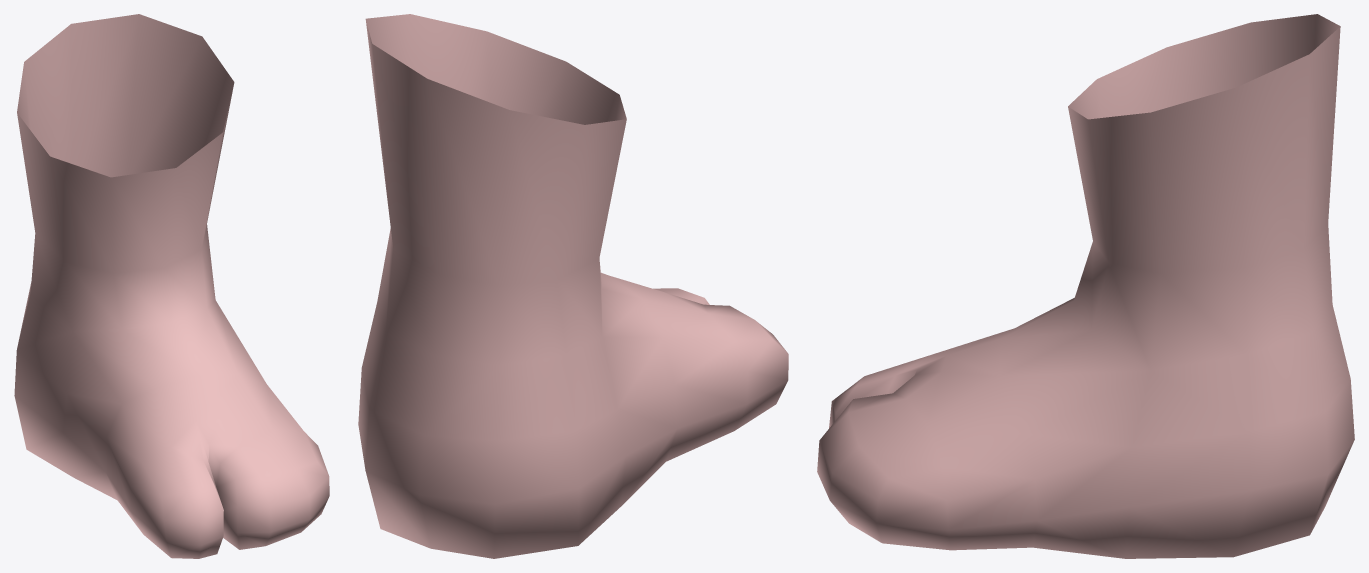
File: Nendoroid_B_Foot02.fbx
The picture shows the model from 3 angles, left to right: view 1: azimuth 30°, elevation 25°; view 2: azimuth 150°, elevation 25°; view 3: azimuth 270°, elevation 25°; orthographic projection. The views are drawn at different scales.
Visible parts, largest first — view 1: Nendoroid_B_Foot02; view 2: Nendoroid_B_Foot02; view 3: Nendoroid_B_Foot02.
Boxes of the visible parts, x1,y1,x2,y2 form: Nendoroid_B_Foot02: [14, 14, 329, 558]; Nendoroid_B_Foot02: [358, 14, 788, 558]; Nendoroid_B_Foot02: [817, 14, 1354, 558].
Size of the model in its own units: 0.2508 by 0.4835 by 0.4854.
